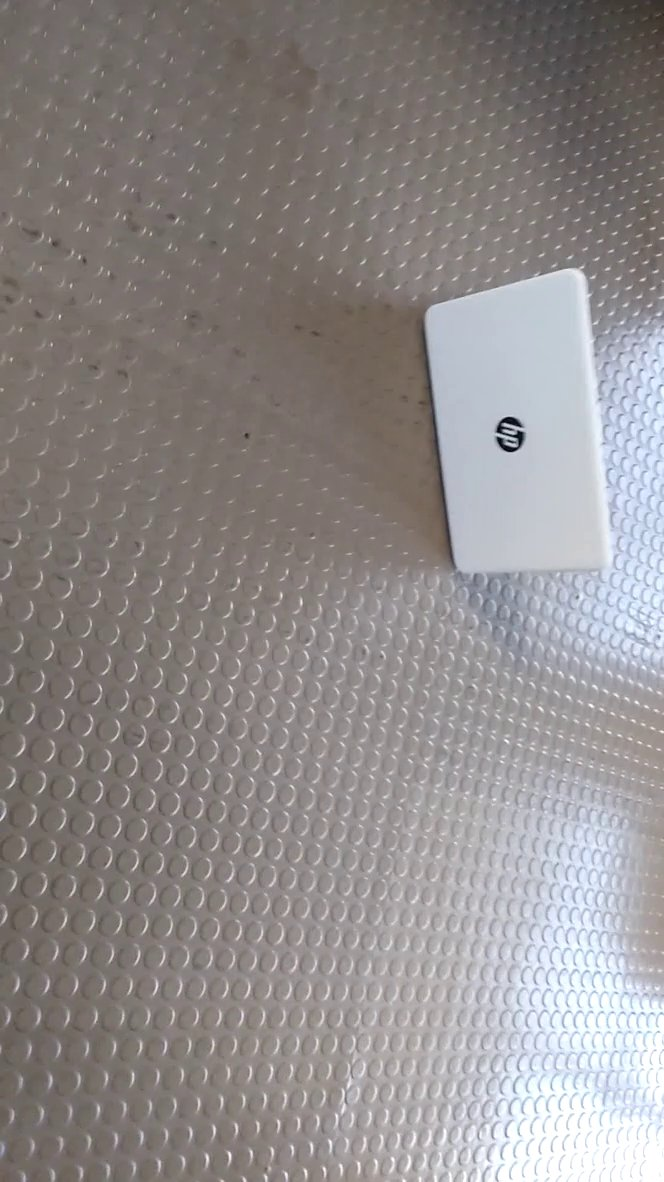laptop: (415, 262, 629, 587)
